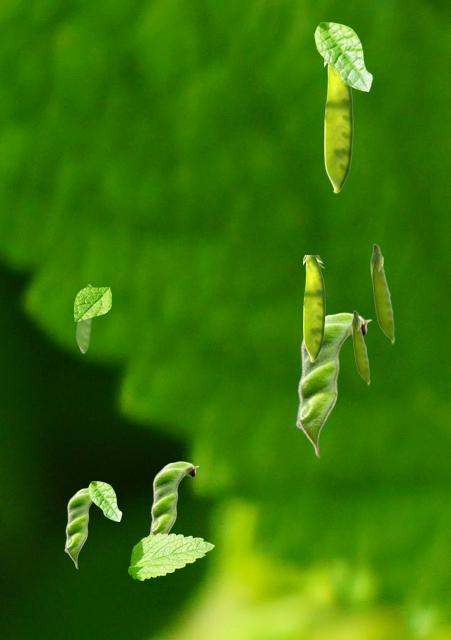pea: (295, 312, 371, 457), (324, 60, 352, 192), (149, 461, 198, 533), (370, 243, 394, 343), (64, 487, 92, 568), (303, 255, 324, 361), (351, 310, 369, 384), (76, 284, 91, 352)
